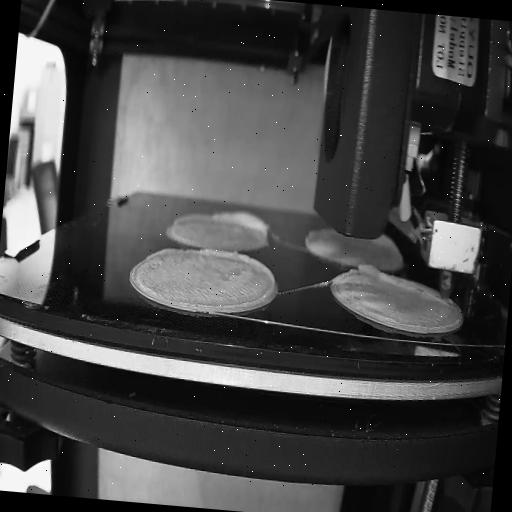over_extrusion: (194, 244, 279, 316), (354, 257, 448, 304), (208, 205, 276, 240), (144, 240, 184, 264), (172, 209, 208, 227)
